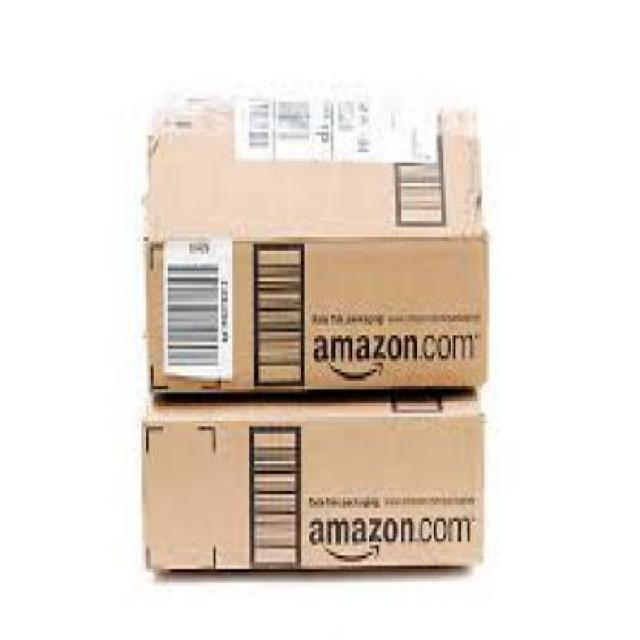box: (139, 95, 485, 394), (137, 392, 487, 579)
